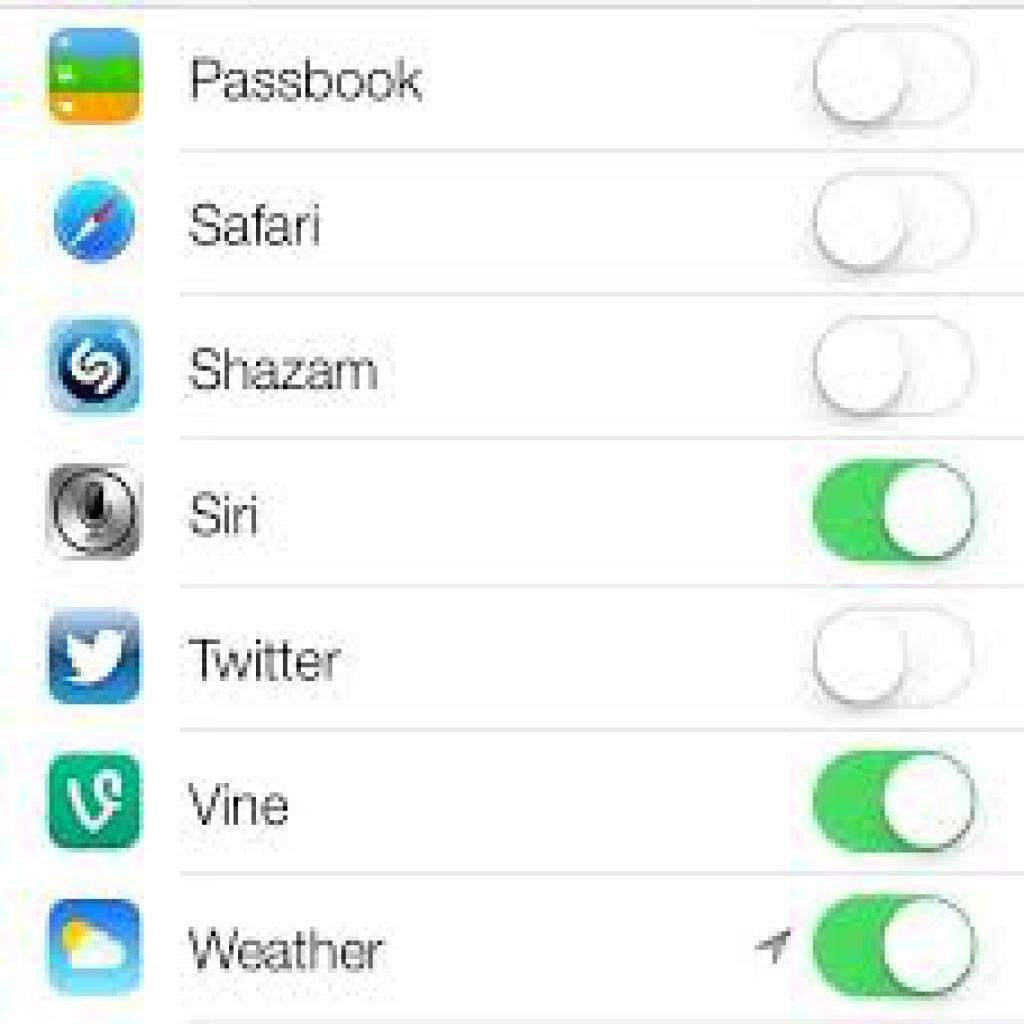switch: (813, 311, 979, 421), (814, 604, 980, 711), (812, 23, 979, 129), (811, 168, 976, 275), (816, 457, 977, 565), (814, 894, 982, 996), (814, 757, 980, 855)
